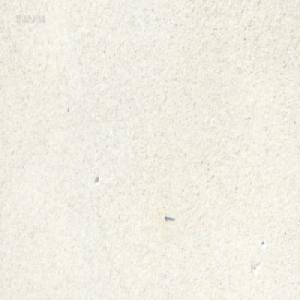Nail: (163, 212, 173, 220)
